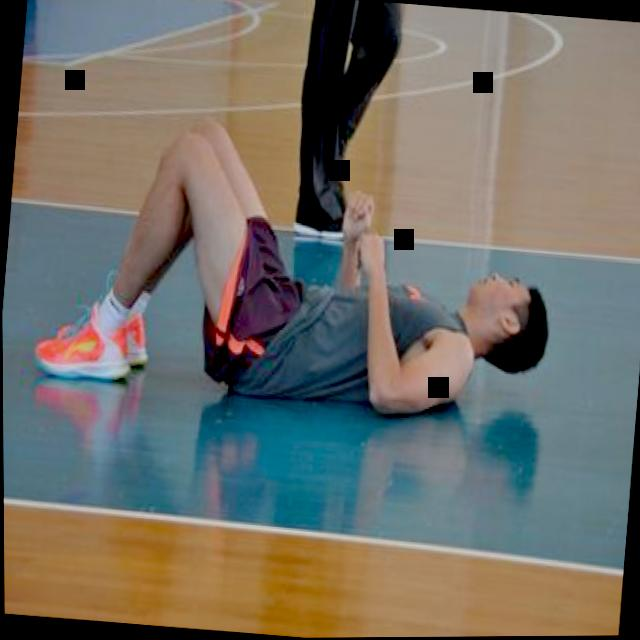Fall-Detected: (13, 97, 570, 439)
